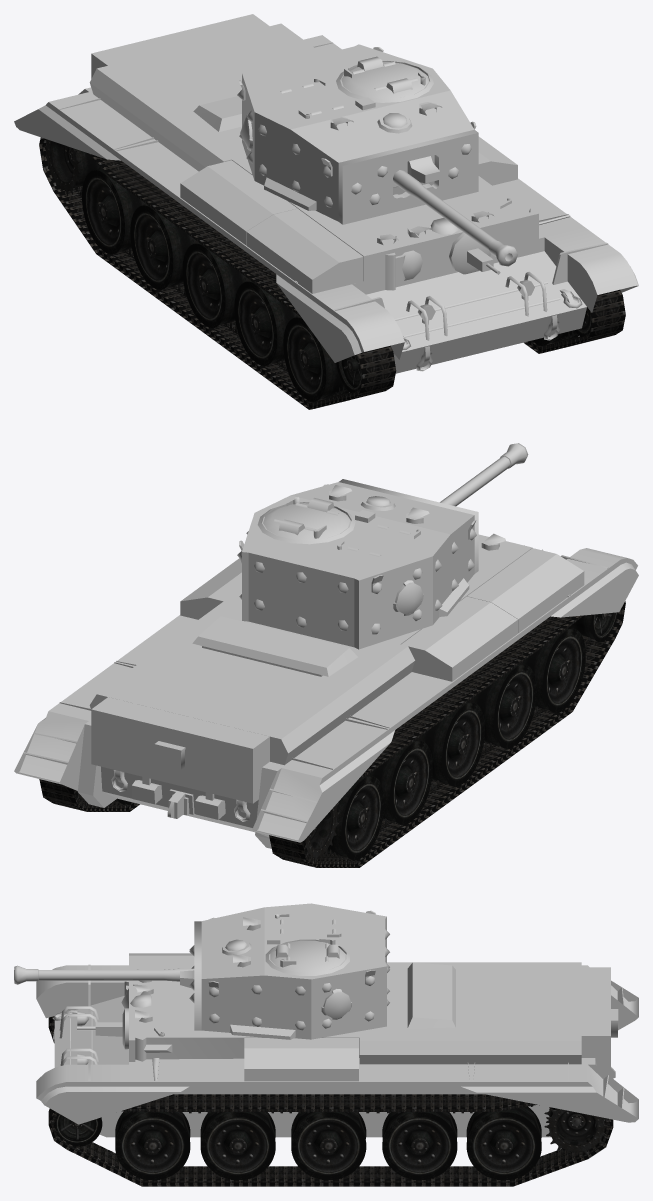
The model's file is cromwell_model_track.FBX.
3 views of the same model, one above another, from view 1: azimuth 30°, elevation 25°; view 2: azimuth 150°, elevation 25°; view 3: azimuth 270°, elevation 25° (orthographic). The views are drawn at different scales.
Parts seen in each view (by area): view 1: body, turret, Righttrack, cannon, Lefttrack; view 2: body, turret, Righttrack, cannon, Lefttrack; view 3: body, Lefttrack, turret, cannon.
Boxes of the visible parts, <box> form: body: <box>14,14,638,373</box>; turret: <box>237,44,478,224</box>; Righttrack: <box>39,137,396,409</box>; cannon: <box>393,155,517,266</box>; Lefttrack: <box>524,289,625,353</box>; body: <box>14,533,638,848</box>; turret: <box>237,479,478,649</box>; Righttrack: <box>269,601,625,867</box>; cannon: <box>440,443,528,506</box>; Lefttrack: <box>39,779,139,811</box>; body: <box>36,953,638,1137</box>; Lefttrack: <box>48,1094,613,1186</box>; turret: <box>189,903,389,1039</box>; cannon: <box>14,965,194,988</box>.
Bounding box in the file's own units: 2.94 × 2.25 × 6.41.
